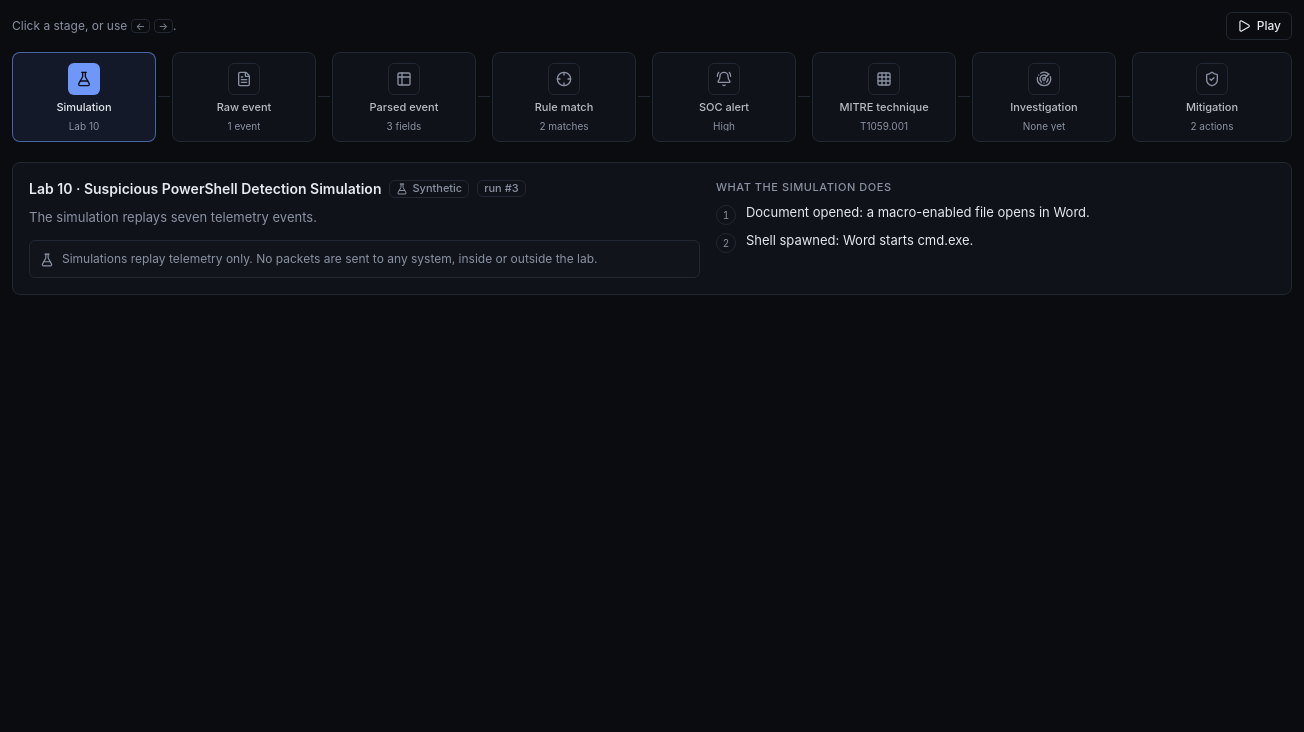
Test: LifecycleFlow › flags matched fields in the parsed event
Click the tab "Parsed event 3 fields": (404, 97) [332,52,476,142]
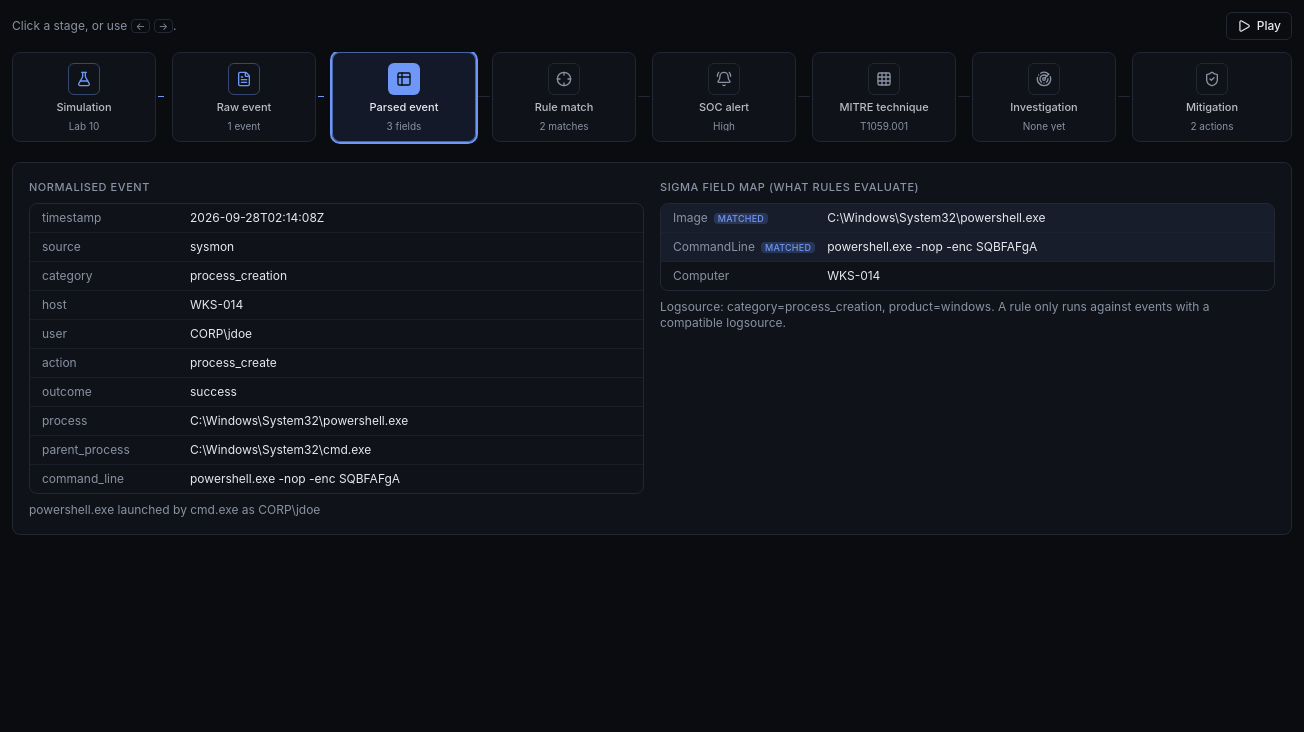
Expected: the text "matched" is shown 2 times, [714,213,768,224]; [761,242,815,253]
